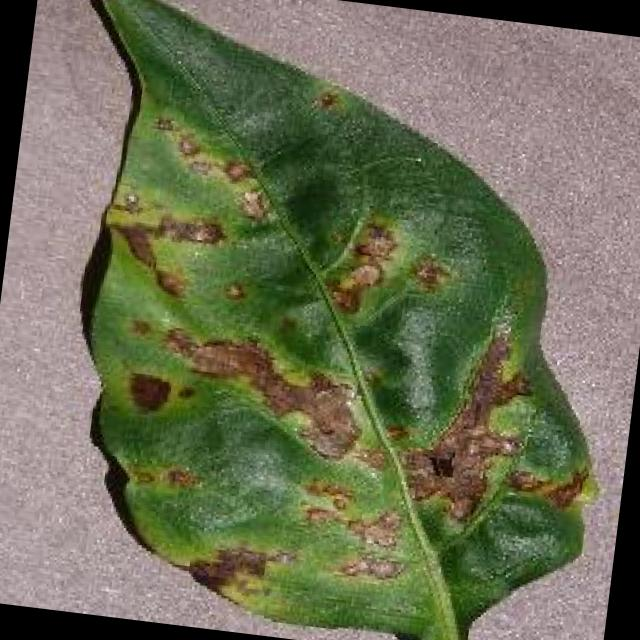Chilli_Bacterial_Spot: (0, 0, 640, 640), (388, 316, 540, 536), (148, 319, 374, 466), (321, 208, 403, 321), (180, 535, 277, 608), (290, 471, 358, 533), (150, 206, 232, 253), (345, 213, 403, 267), (401, 246, 454, 300), (120, 367, 175, 418), (228, 181, 274, 228), (320, 272, 366, 318), (156, 459, 202, 496), (344, 255, 386, 292), (214, 272, 252, 308), (308, 82, 344, 116)
